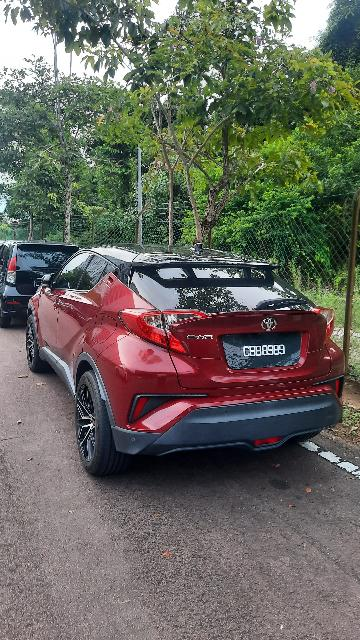License_Plate: (219, 328, 307, 375)
car: (21, 242, 360, 481)
